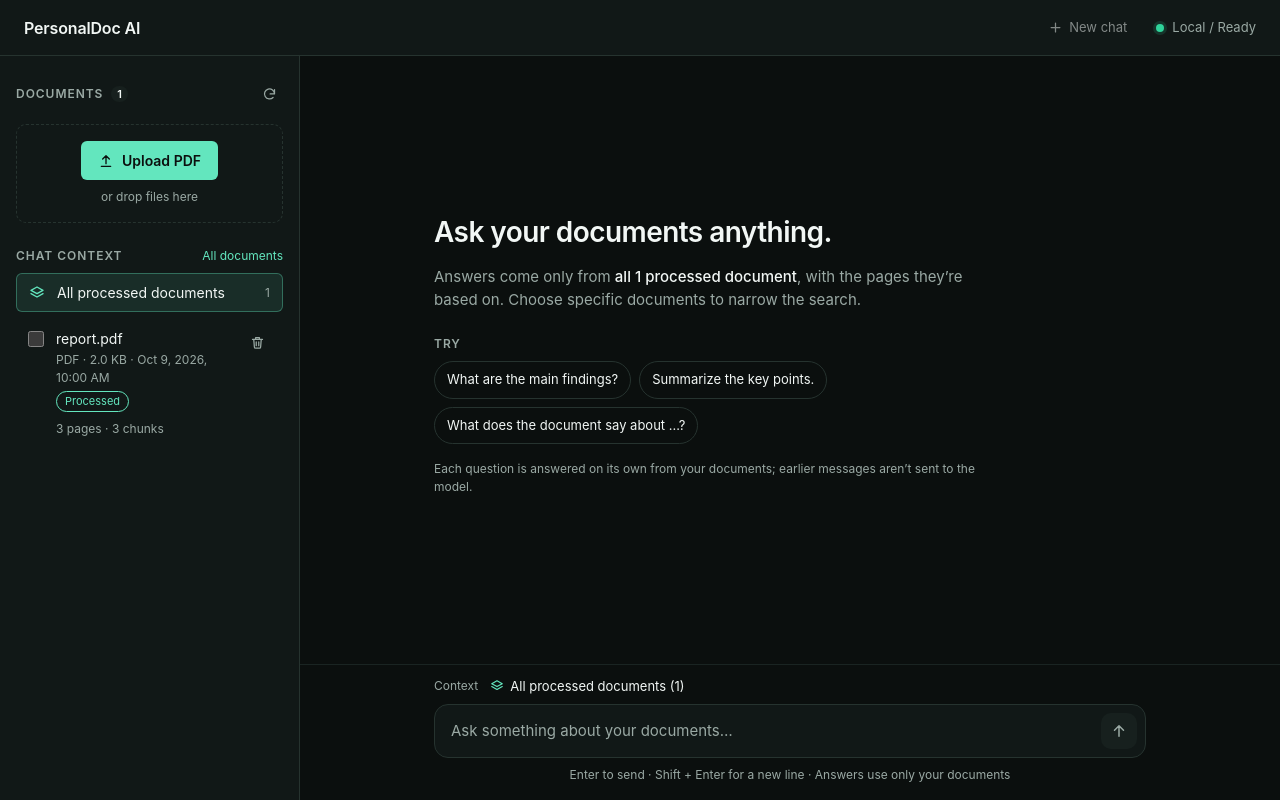
errors and retry › explains an Ollama outage without exposing its address, then retries the same question
Type "Will this fail?" into the text box named "ask a question about your documents" at (772, 732), box [451,714,1093,749]
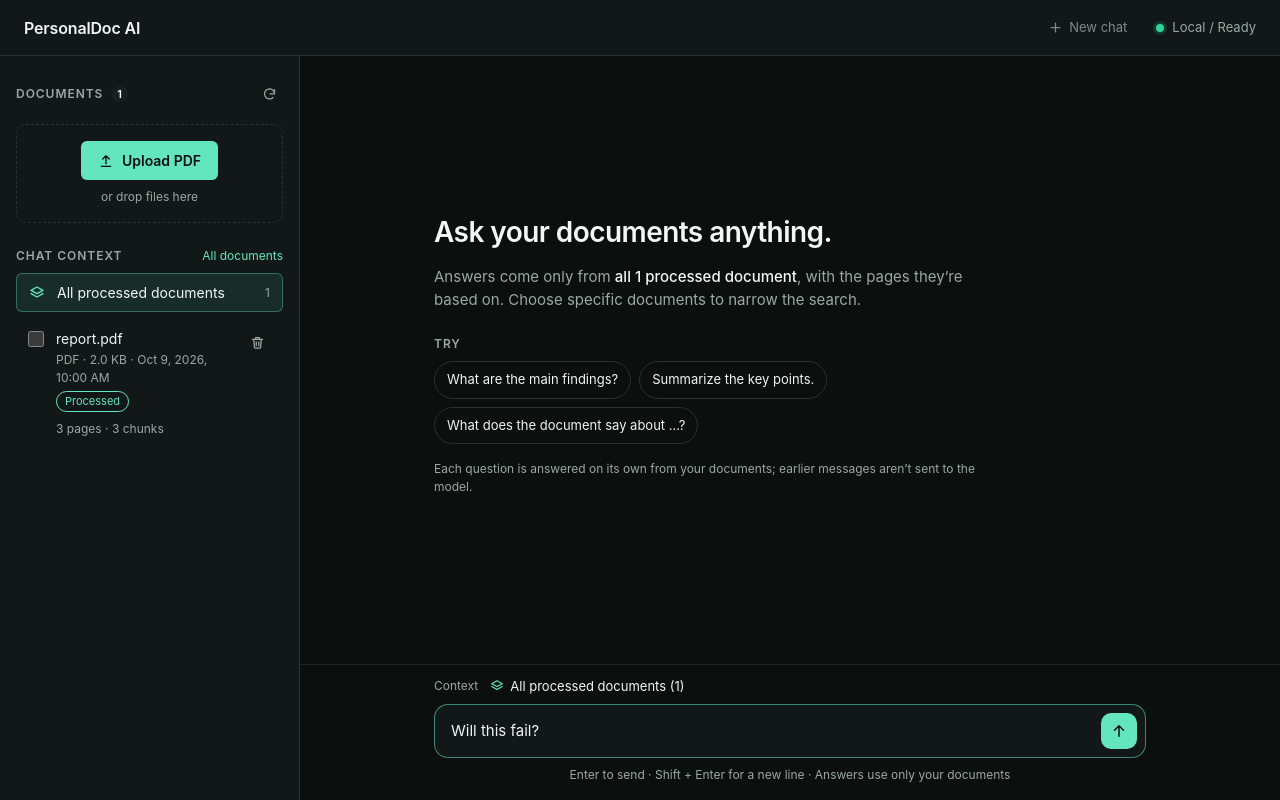
Click the button named "Send question" at (1119, 731), box [1101,713,1137,749]
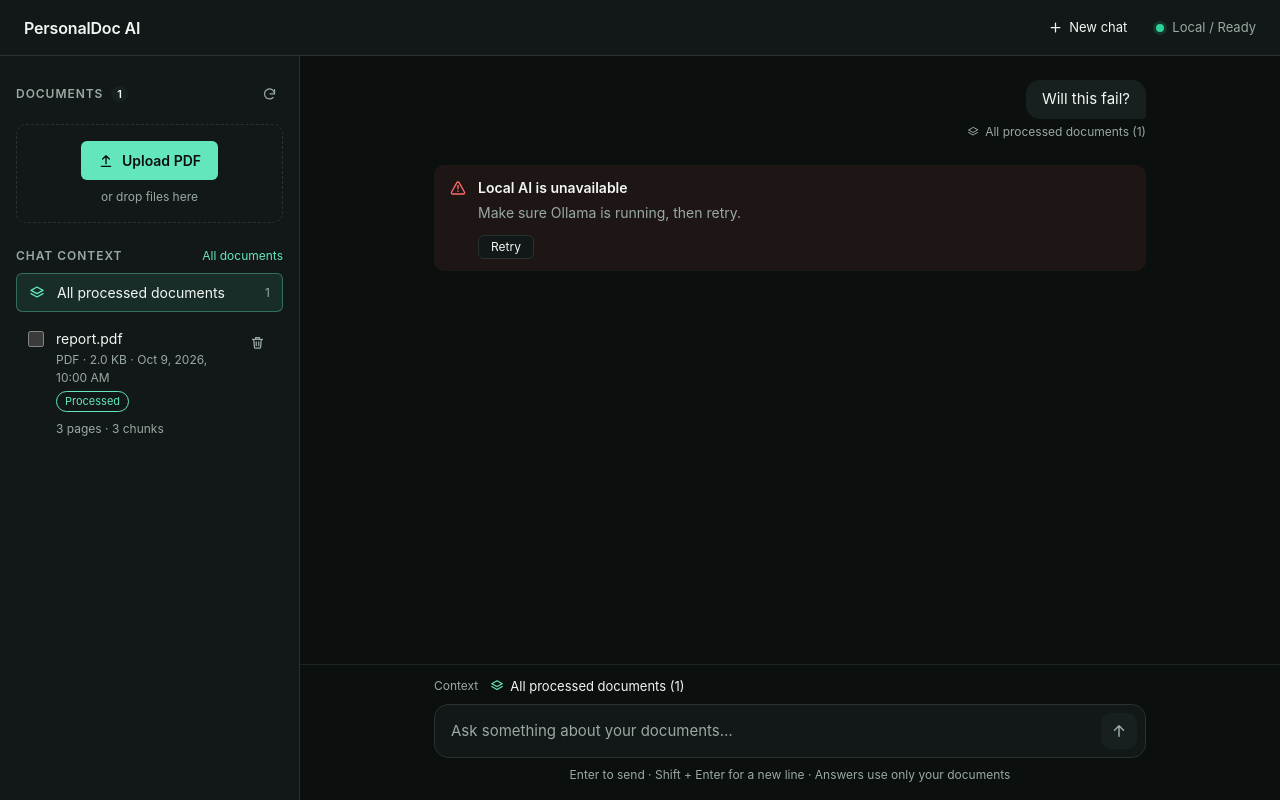
Expected: the text "Local AI is unavailable" is shown, [478,176,628,198]
Expected: the text "Make sure Ollama is running, then retry." is shown, [478,202,741,222]
Expected: the text "Will this fail?" is shown, [1026,80,1146,118]
Click the button "Retry" at (506, 246), box [478,234,534,258]
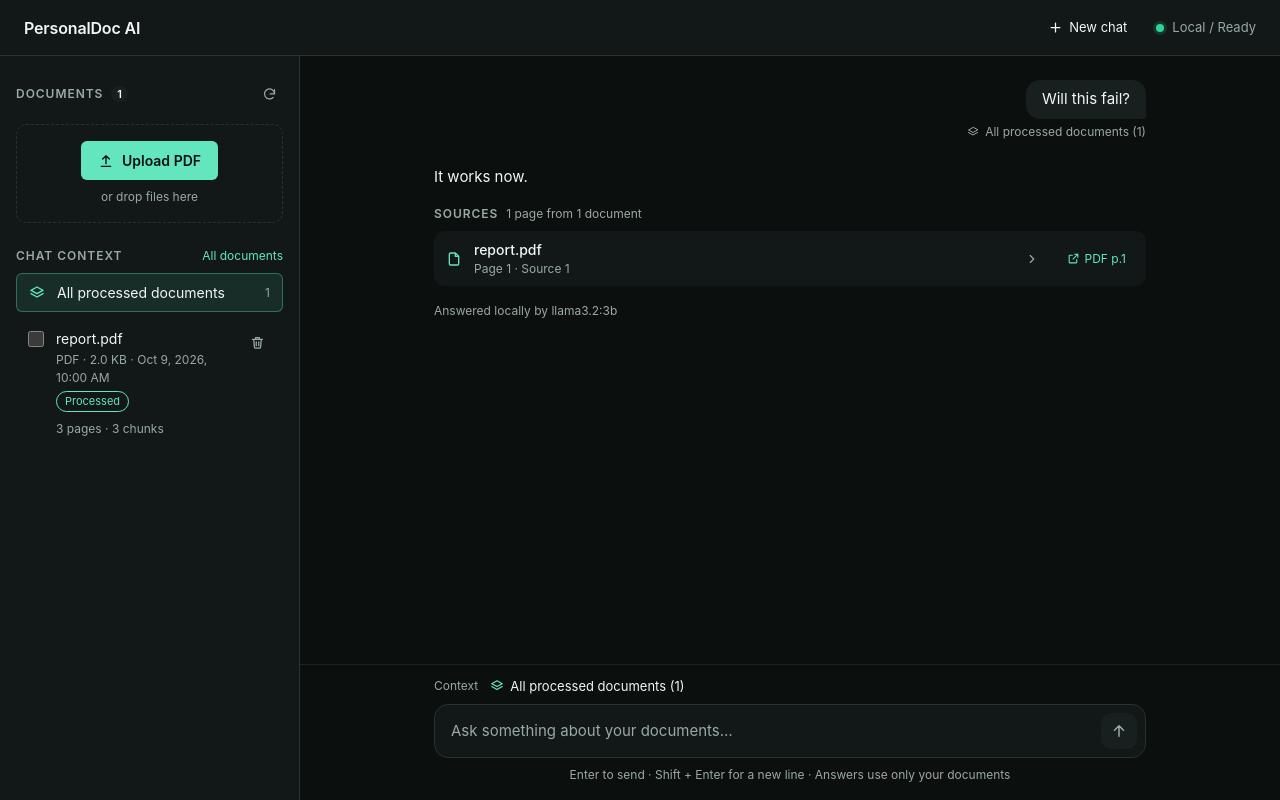
Expected: the text "Will this fail?" is shown once, [1026,80,1146,118]
Expected: the text "It works now." is shown, [434,166,528,186]
